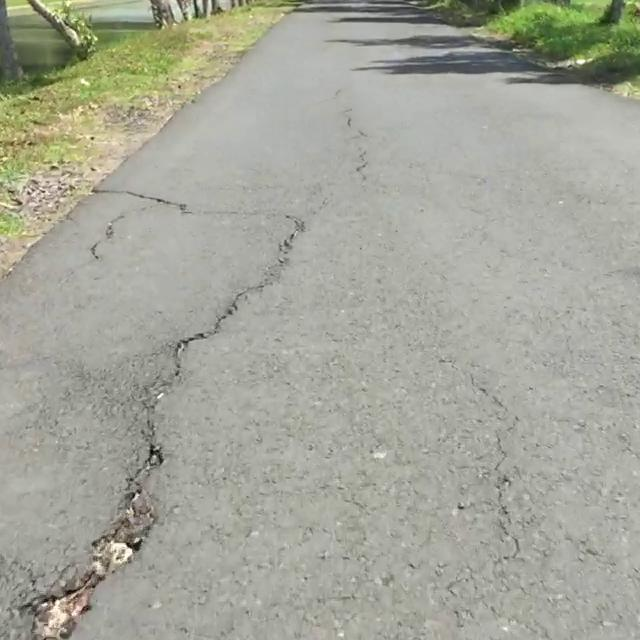retak_memanjang: (14, 204, 332, 640), (436, 363, 536, 579), (94, 157, 200, 267), (327, 90, 384, 199)
